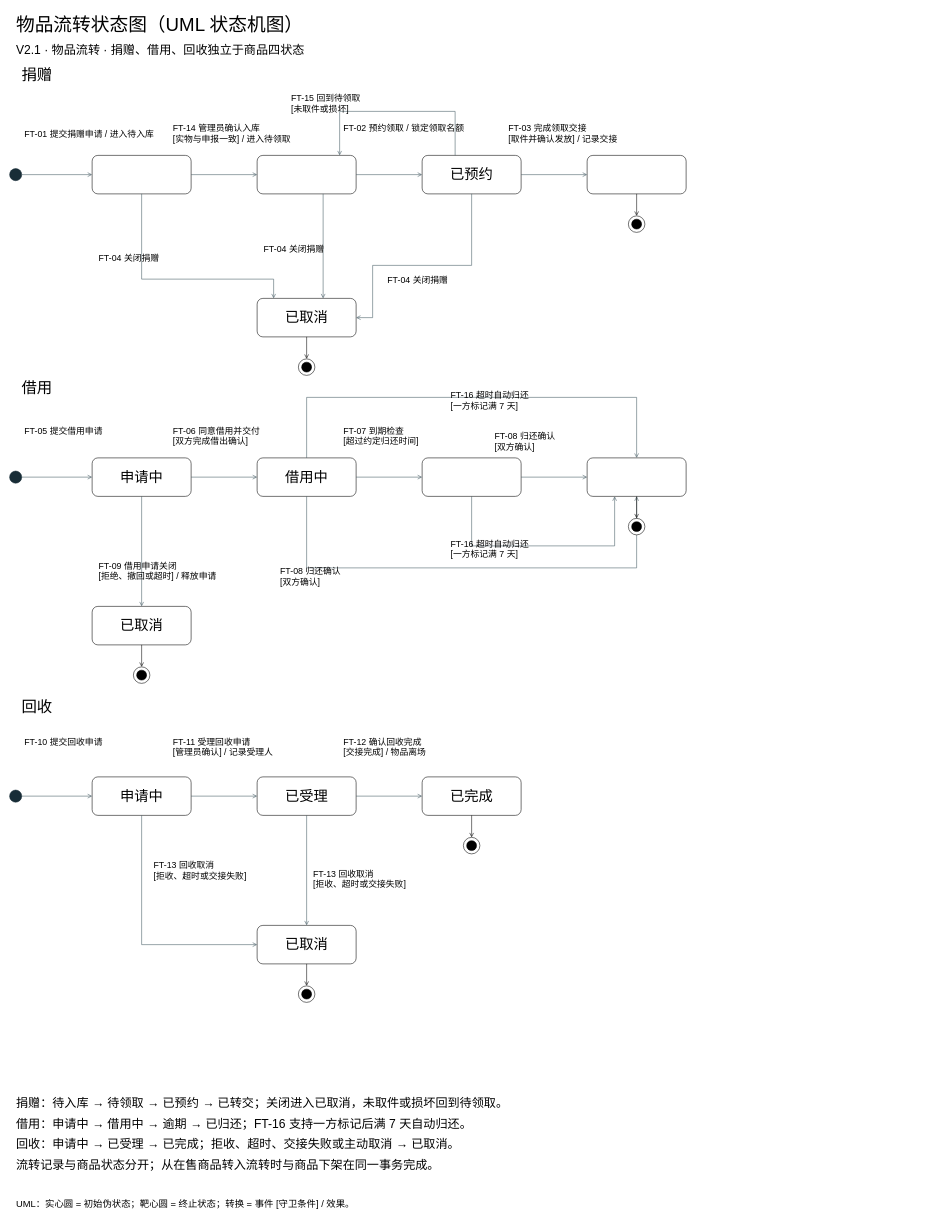
This 949x1223 diagram has some shape labels left out. Here are the shapes that lost their labels. From the top down, the box of each, then its label:
(92, 155, 191, 194): 待入库
(257, 155, 356, 194): 待领取
(587, 155, 686, 194): 已转交
(422, 457, 521, 496): 逾期
(587, 457, 686, 496): 已归还
